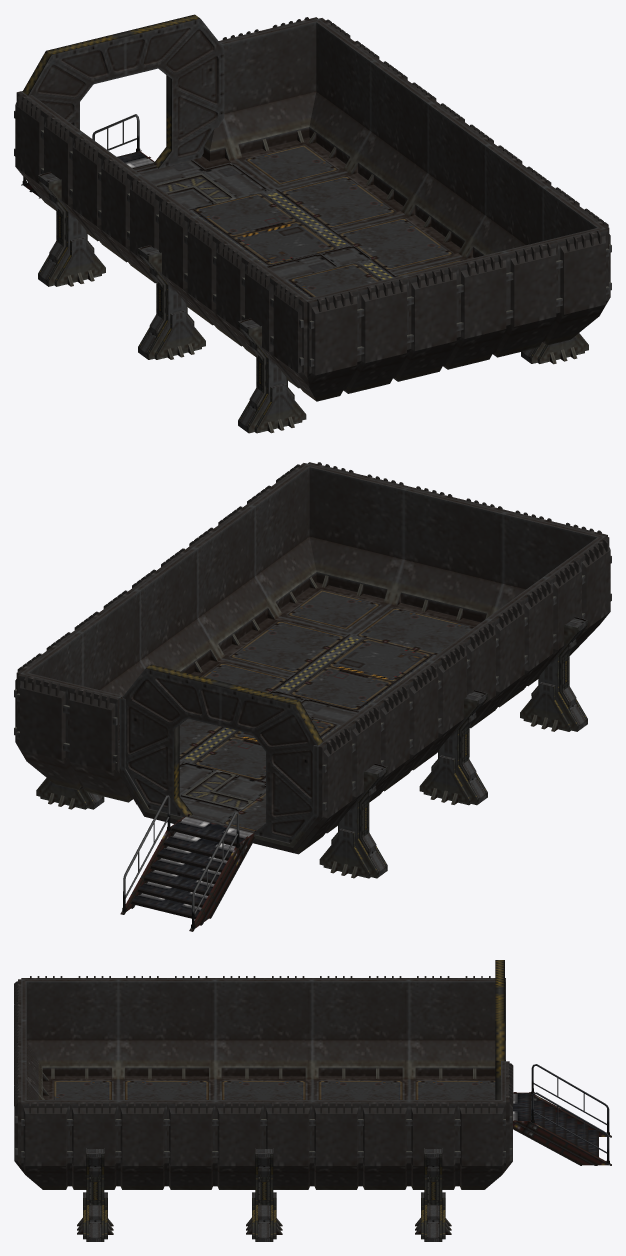
File: Autonomous_unit_2.FBX
The picture shows the model from 3 angles, top to bottom: view 1: azimuth 30°, elevation 25°; view 2: azimuth 150°, elevation 25°; view 3: azimuth 270°, elevation 25°; orthographic projection. The views are drawn at different scales.
Visible parts, largest first — view 1: Autonomous_unit_2; view 2: Autonomous_unit_2; view 3: Autonomous_unit_2.
Boxes of the visible parts, bbox=[...] form: Autonomous_unit_2: bbox=[14, 14, 611, 433]; Autonomous_unit_2: bbox=[14, 462, 611, 931]; Autonomous_unit_2: bbox=[14, 960, 611, 1241].
Bounding box in the file's own units: 1027 × 547 × 1851.
